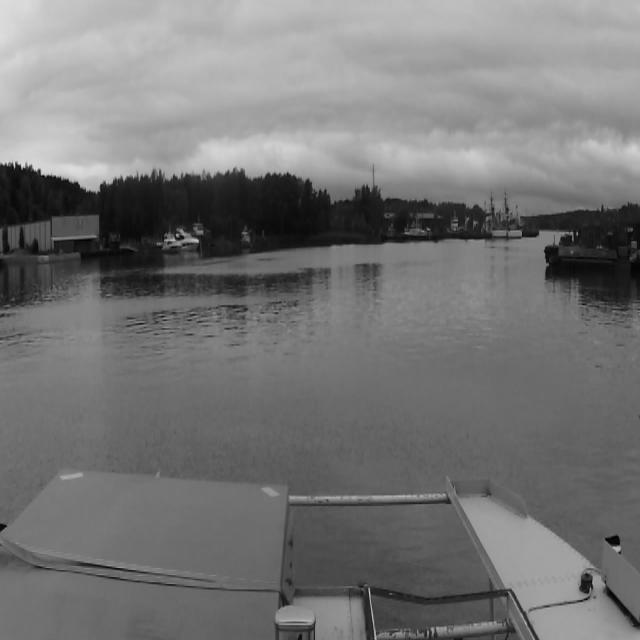ship: (483, 188, 507, 240), (504, 189, 522, 239), (181, 228, 199, 254), (162, 233, 182, 254)
